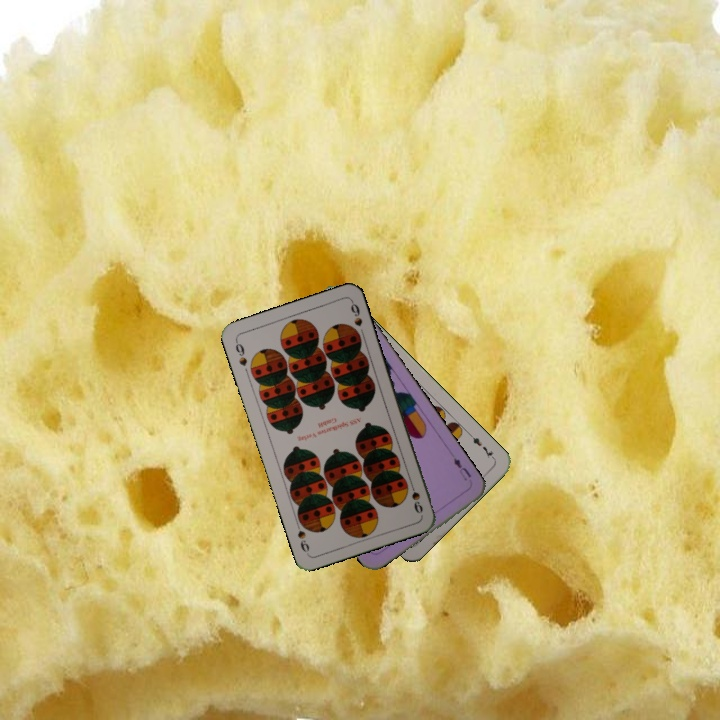E7: (466, 430, 498, 462)
EU: (449, 454, 474, 484)
S9: (406, 477, 425, 516), (231, 336, 250, 368)
